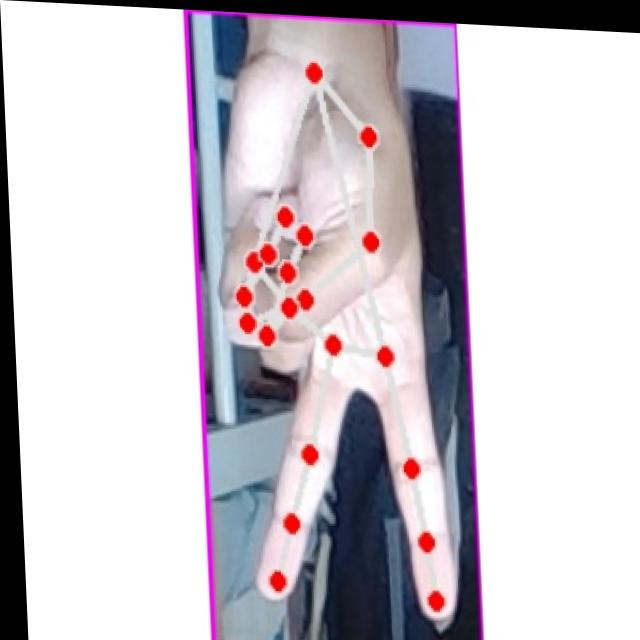V: (204, 33, 464, 622)
